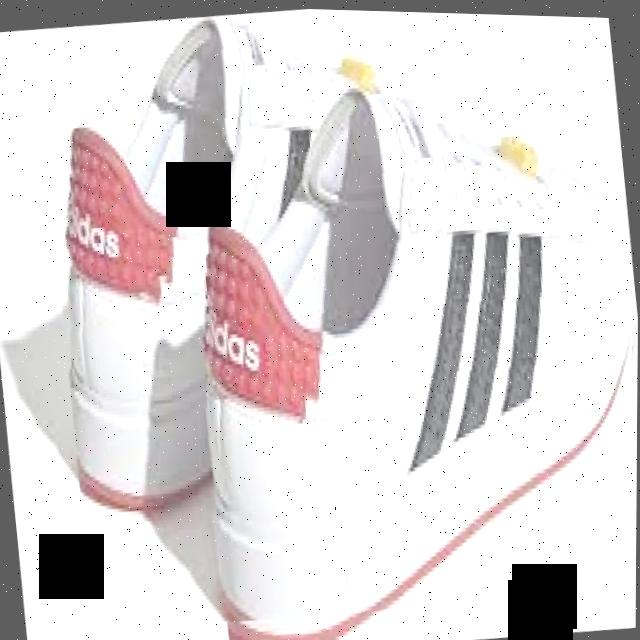shoe: (31, 1, 640, 640), (173, 50, 640, 640)
